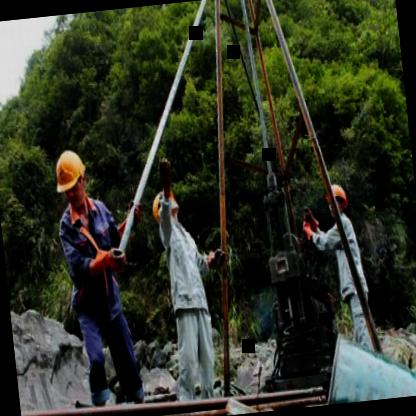helmet: (50, 142, 92, 210), (147, 182, 184, 226), (324, 180, 354, 220)
